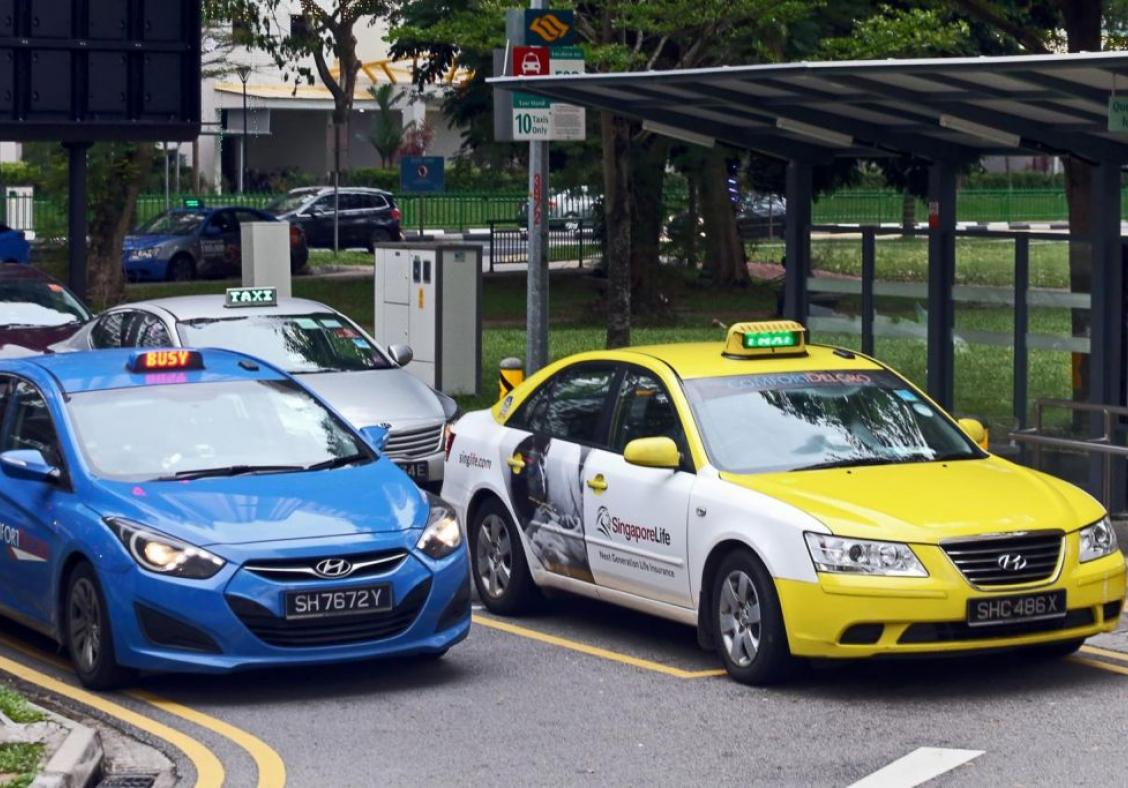car: (437, 290, 1128, 703), (8, 326, 485, 690)
